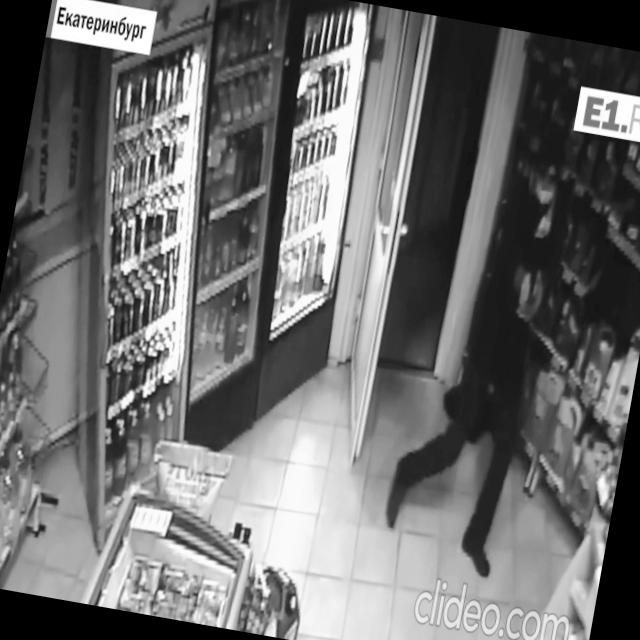gun: (520, 254, 544, 310)
person with a gun: (376, 133, 572, 582)
